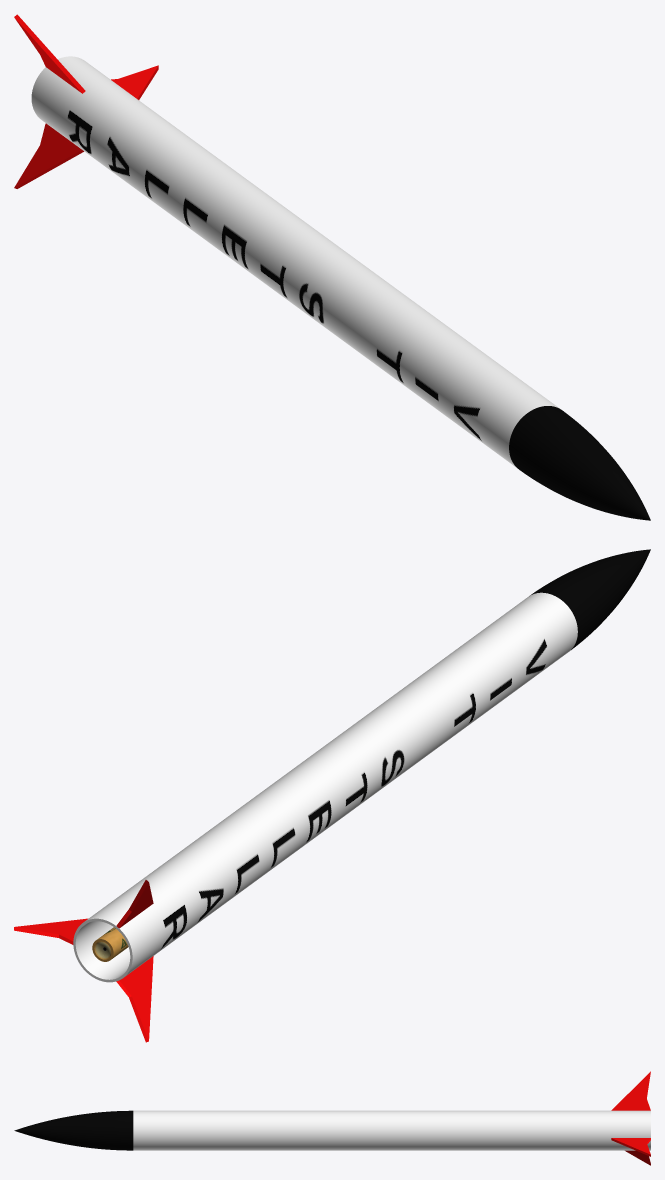
Rendered from rocket.obj.
3 views of the same model, one above another, from view 1: azimuth 30°, elevation 25°; view 2: azimuth 150°, elevation 25°; view 3: azimuth 270°, elevation 25° (orthographic). The views are drawn at different scales.
Visible parts, largest first — view 1: 2_Body Tube, 1_Nose Cone, 3_Freeform Fin Set; view 2: 2_Body Tube, 1_Nose Cone, 3_Freeform Fin Set, 2_Body Tube_C5; view 3: 2_Body Tube, 1_Nose Cone, 3_Freeform Fin Set.
Part boxes in pixels (x1,y1,x2,y2): 2_Body Tube: (31, 56, 559, 467); 1_Nose Cone: (509, 406, 650, 520); 3_Freeform Fin Set: (14, 14, 158, 188); 2_Body Tube: (73, 592, 577, 982); 1_Nose Cone: (530, 549, 650, 649); 3_Freeform Fin Set: (14, 880, 153, 1042); 2_Body Tube_C5: (92, 927, 128, 961); 2_Body Tube: (133, 1110, 650, 1150); 1_Nose Cone: (14, 1110, 133, 1150); 3_Freeform Fin Set: (611, 1071, 650, 1165).
Size of the model in its own units: 2.28 by 2.63 by 16.
4 materials, 2 textured.
